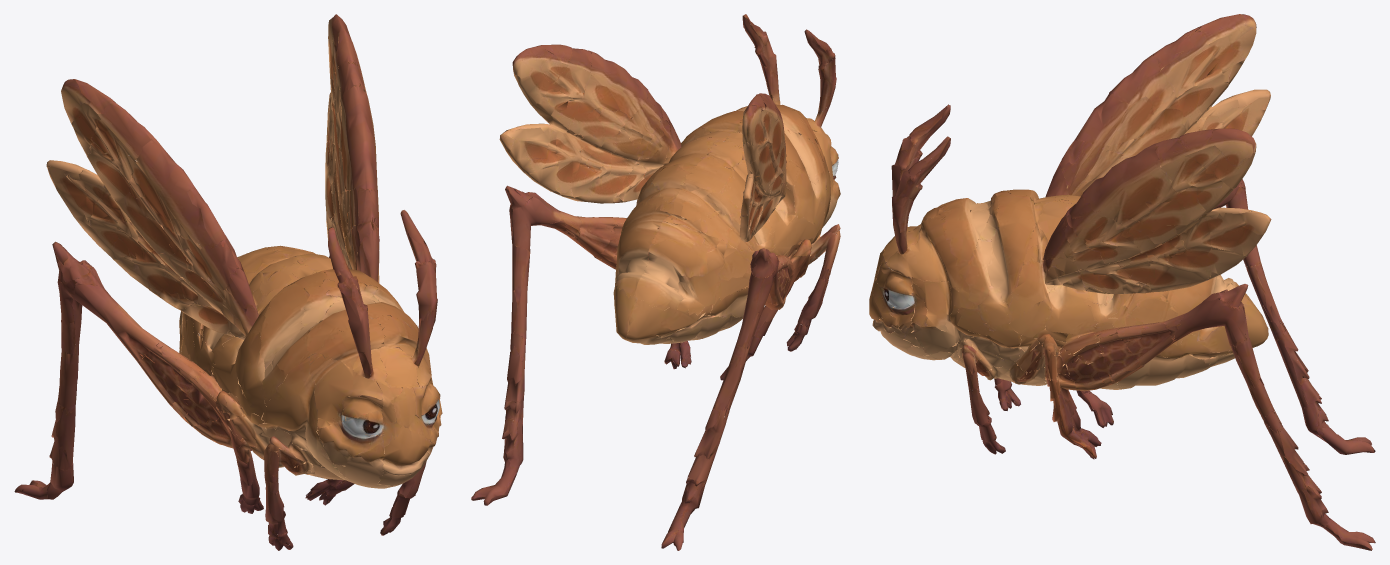
3 renders of one model, left to right at view 1: azimuth 30°, elevation 25°; view 2: azimuth 150°, elevation 25°; view 3: azimuth 270°, elevation 25°, orthographic. The views are drawn at different scales.
Visible parts, largest first — view 1: Mesh_0; view 2: Mesh_0; view 3: Mesh_0.
Boxes of the visible parts, left/top/right/bottom form: Mesh_0: left=14, top=14, right=442, bottom=550; Mesh_0: left=471, top=14, right=840, bottom=550; Mesh_0: left=869, top=14, right=1375, bottom=550.
Size of the model in its own units: 1.19 by 1.76 by 1.9.
Materials: 1 (1 with a texture image).
